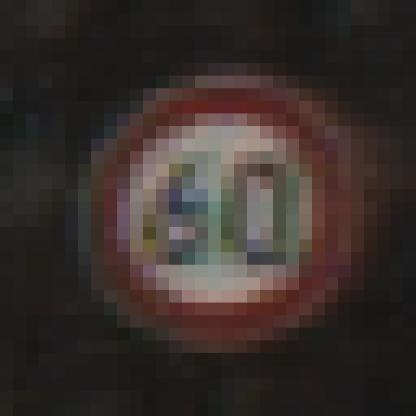Speed Limit 60: (86, 81, 341, 334)
